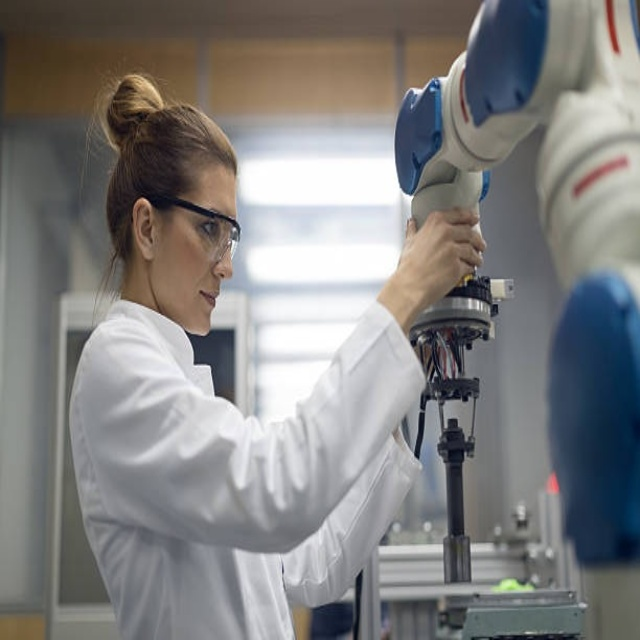Gafas: (146, 195, 242, 264)
Sin_guantes: (391, 205, 486, 317)
Sin_mascara: (186, 275, 224, 333)
